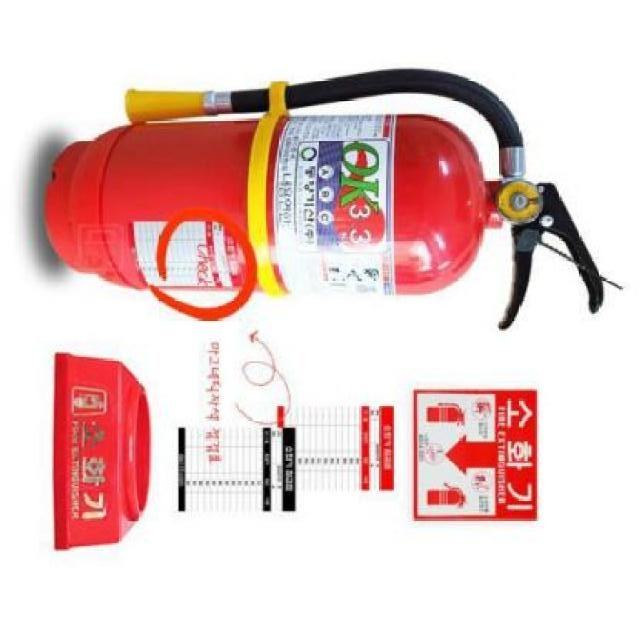fire extinguisher: (43, 68, 606, 330)
